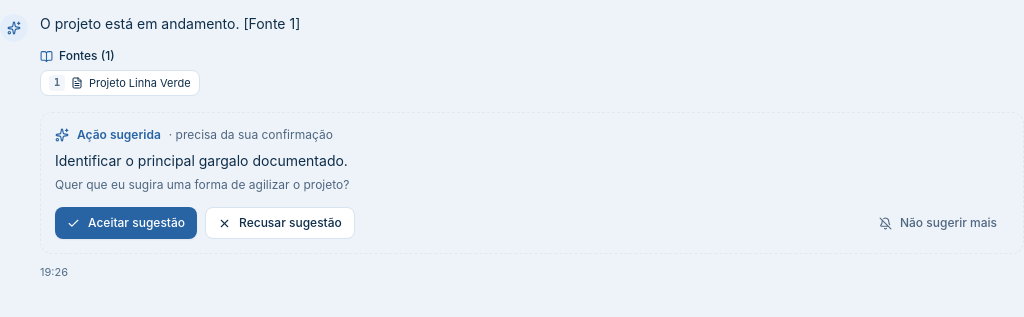
Test: Componentes de chat › Sugestão reúne aceitar, recusar e desativar no mesmo lugar
Expected: the button "Aceitar sugestão" is shown, [55,207,197,239]
Expected: the button "Recusar sugestão" is shown, [205,207,355,239]
What coordinates should you click on to do the following:
click the button "Não sugerir mais"
I would click on:
 (938, 223)
Its box is [867,207,1009,239].
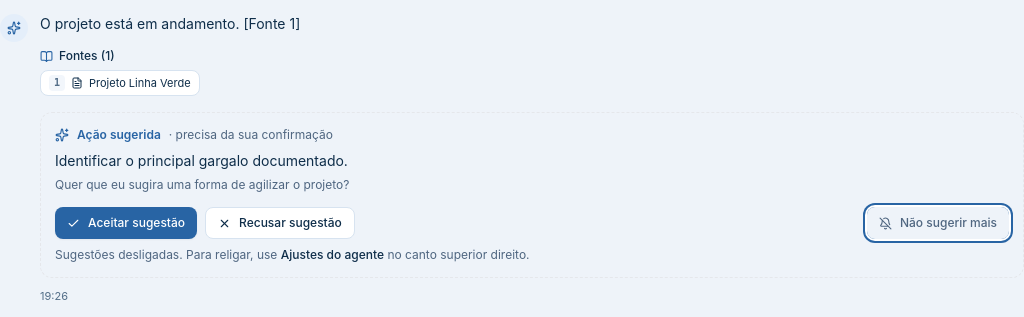
Expected: the text "Sugestões desligadas" is shown, [55,247,277,262]
Expected: the text "Ajustes do agente" is shown, [281,247,384,262]
